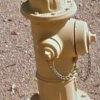Hydrant: (16, 0, 99, 100)
